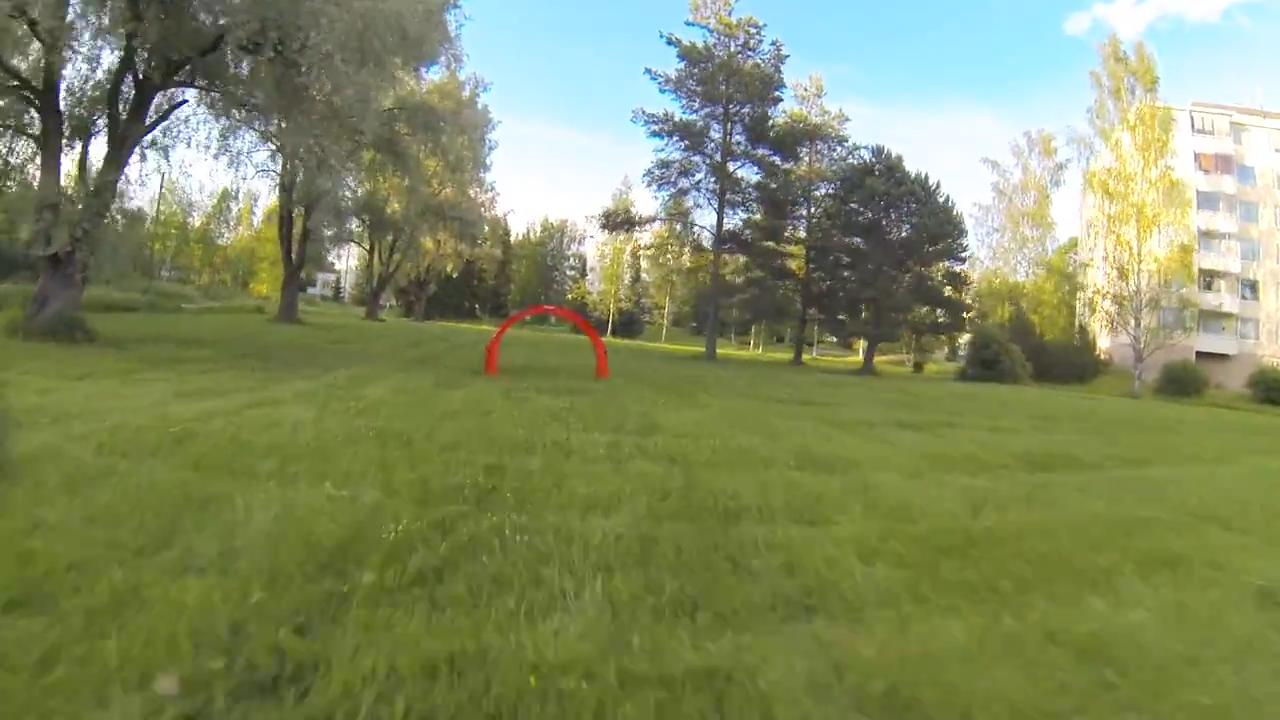gate: (483, 304, 612, 382)
